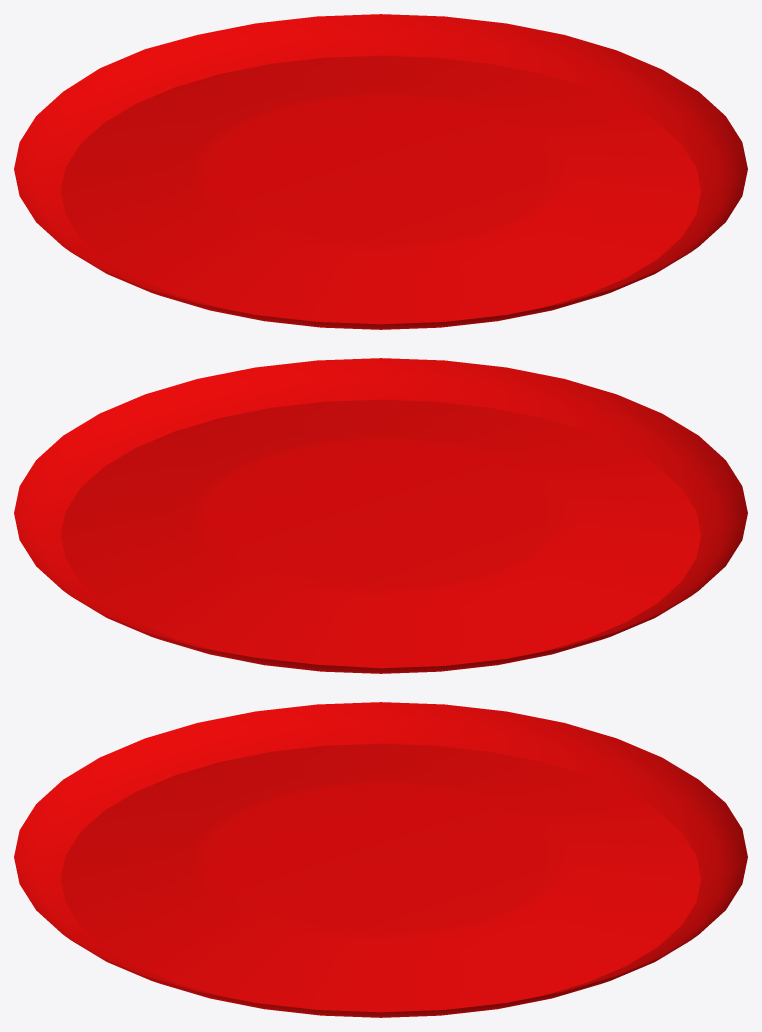
The model's file is thorkea_ceiling_vents_grp.fbx.
The picture shows the model from 3 angles, top to bottom: view 1: azimuth 30°, elevation 25°; view 2: azimuth 150°, elevation 25°; view 3: azimuth 270°, elevation 25°; orthographic projection.
Parts seen in each view (by area): view 1: thorkea_ceiling_vent; view 2: thorkea_ceiling_vent; view 3: thorkea_ceiling_vent.
Part boxes in pixels (x1=…): thorkea_ceiling_vent: x1=14, y1=14, x2=747, y2=329; thorkea_ceiling_vent: x1=14, y1=358, x2=747, y2=673; thorkea_ceiling_vent: x1=14, y1=702, x2=747, y2=1017.
Size of the model in its own units: 54.58 by 4.32 by 54.58.
